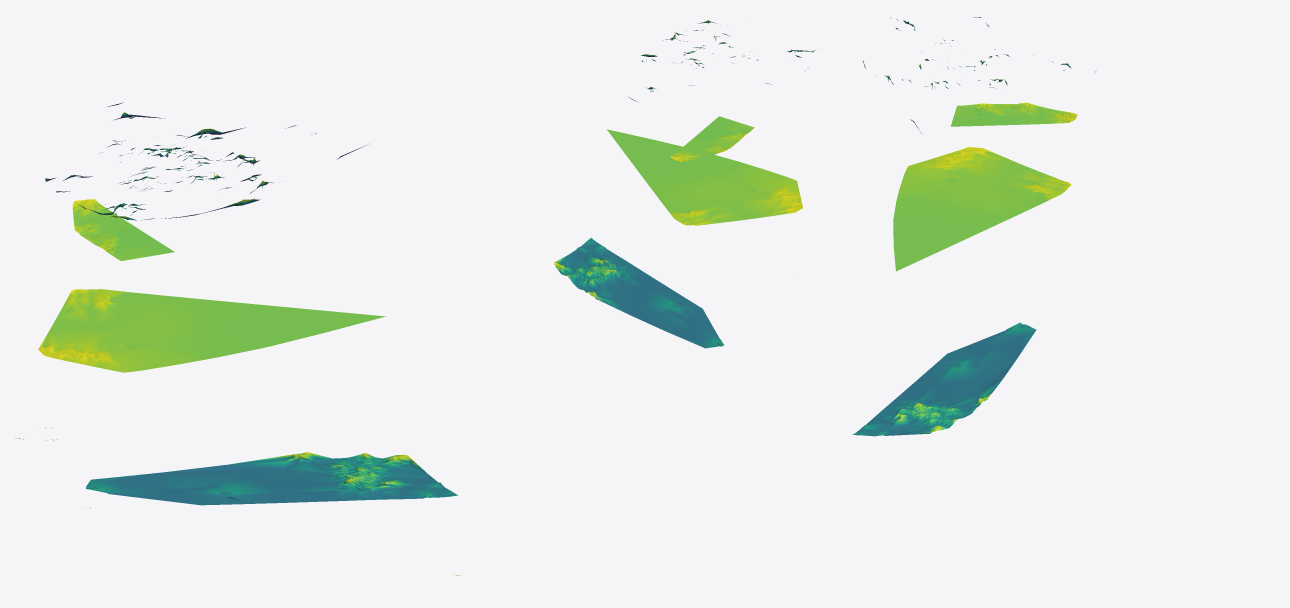
The picture shows the model from 3 angles, left to right: view 1: azimuth 30°, elevation 25°; view 2: azimuth 150°, elevation 25°; view 3: azimuth 270°, elevation 25°; orthographic projection. The views are drawn at different scales.
Parts seen in each view (by area): view 1: Renderer Node; view 2: Renderer Node; view 3: Renderer Node.
Boxes of the visible parts, x1=… form: Renderer Node: x1=15, y1=102, x2=460, y2=575; Renderer Node: x1=554, y1=20, x2=815, y2=348; Renderer Node: x1=852, y1=17, x2=1095, y2=436.
Bounding box in the file's own units: 13.75 × 21.01 × 16.25.
Materials: 8 (8 with a texture image).
